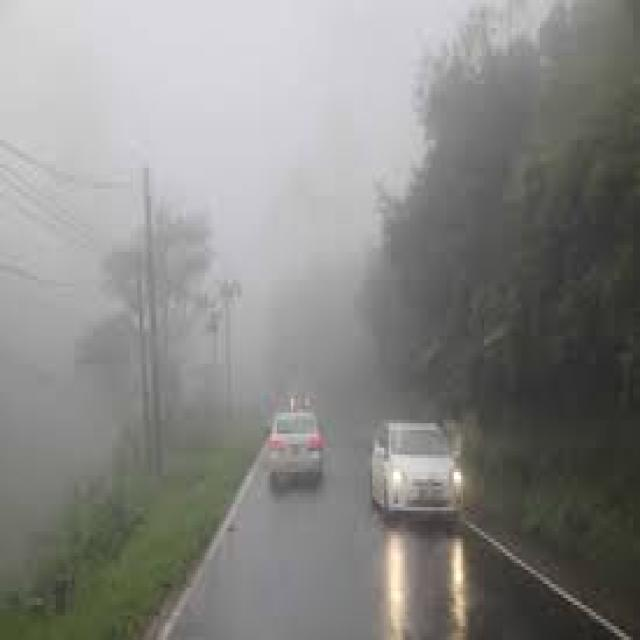car: (372, 420, 458, 514), (268, 413, 323, 479)
